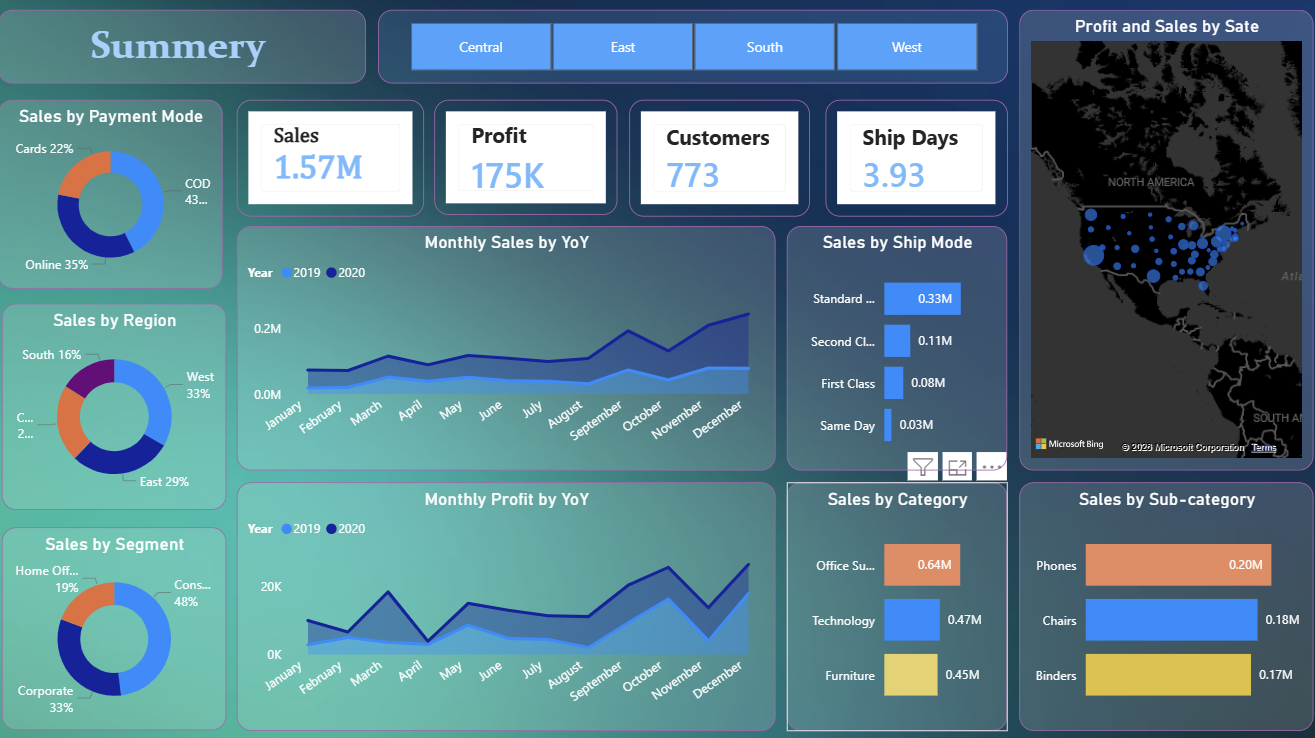

This screenshot's page, from the dashboard's own definition file:
{"tool":"powerbi","page":{"name":"Dashboard","canvas":[1280,720],"ordinal":0},"visuals":[{"type":"barChart","title":"Sales by Category","fields":{"Category":["SuperStore_Sales_Dataset.Category"],"Y":["Sum(SuperStore_Sales_Dataset.Sales)"]},"box":[761.6,469.3,212.7,240.1],"z":0},{"type":"barChart","title":"Sales by Sub-category","fields":{"Y":["Sum(SuperStore_Sales_Dataset.Sales)"],"Category":["SuperStore_Sales_Dataset.Sub-Category"]},"box":[985.3,469.3,284,240.1],"z":1000},{"type":"barChart","title":"Sales by Ship Mode","fields":{"Y":["Sum(SuperStore_Sales_Dataset.Sales)"],"Category":["SuperStore_Sales_Dataset.Ship Mode"]},"box":[761.6,222.3,212.7,236],"z":2000},{"type":"stackedAreaChart","title":"Monthly Sales by YoY","fields":{"Category":["SuperStore_Sales_Dataset.Order Date.Variation.Date Hierarchy.Month","SuperStore_Sales_Dataset.Order Date.Variation.Date Hierarchy.Day"],"Y":["Sum(SuperStore_Sales_Dataset.Sales)"],"Series":["SuperStore_Sales_Dataset.Order Date.Variation.Date Hierarchy.Year"]},"box":[230.5,222.3,520.1,236],"z":3000},{"type":"stackedAreaChart","title":"Monthly Profit by YoY","fields":{"Category":["SuperStore_Sales_Dataset.Order Date.Variation.Date Hierarchy.Month","SuperStore_Sales_Dataset.Order Date.Variation.Date Hierarchy.Day"],"Series":["SuperStore_Sales_Dataset.Order Date.Variation.Date Hierarchy.Year"],"Y":["Sum(SuperStore_Sales_Dataset.Profit)"]},"box":[230.5,469.3,520.1,240.1],"z":4000},{"type":"map","title":"Profit and Sales by Sate","fields":{"Category":["SuperStore_Sales_Dataset.State"],"Size":["Sum(SuperStore_Sales_Dataset.Sales)"]},"box":[985.3,13.7,284,444.6],"z":5000},{"type":"donutChart","title":"Sales by Region","fields":{"Category":["SuperStore_Sales_Dataset.Region"],"Y":["Sum(SuperStore_Sales_Dataset.Sales)"]},"box":[4.1,296.4,216.8,199],"z":6000},{"type":"donutChart","title":"Sales by Payment Mode","fields":{"Y":["Sum(SuperStore_Sales_Dataset.Sales)"],"Category":["SuperStore_Sales_Dataset.Payment Mode"]},"box":[0,100.2,216.8,182.5],"z":7000},{"type":"slicer","fields":{"Values":["SuperStore_Sales_Dataset.Region"]},"box":[366.4,13.7,607.9,71.4],"z":8000},{"type":"actionButton","box":[0,0,100,40],"z":9000},{"type":"textbox","box":[0,13.7,355.4,71.4],"z":10000},{"type":"donutChart","title":"Sales by Segment","fields":{"Category":["SuperStore_Sales_Dataset.Segment"],"Y":["Sum(SuperStore_Sales_Dataset.Sales)"]},"box":[4.1,513.2,216.8,196.2],"z":11000},{"type":"cardVisual","fields":{"Data":["Sum(SuperStore_Sales_Dataset.Sales)"]},"box":[230.5,100.2,181.1,112.5],"z":12000},{"type":"cardVisual","fields":{"Data":["Avg(SuperStore_Sales_Dataset.AvgDelivery)"]},"box":[798.6,100.2,175.6,112.5],"z":13000},{"type":"cardVisual","fields":{"Data":["Count(SuperStore_Sales_Dataset.Customer ID)"]},"box":[609.3,100.2,174.3,112.5],"z":14000},{"type":"cardVisual","fields":{"Data":["Sum(SuperStore_Sales_Dataset.Profit)"]},"box":[421.3,100.2,177,111.1],"z":15000}]}

Visuals, with their boxes in screenshot pixels (x1, y1, x2, y2), scaled from the page's 1280x720 canvas onto the 1315x738 screenshot:
"Sales by Category" barChart: 782:481:1001:727
"Sales by Sub-category" barChart: 1012:481:1304:727
"Sales by Ship Mode" barChart: 782:228:1001:470
"Monthly Sales by YoY" stackedAreaChart: 237:228:771:470
"Monthly Profit by YoY" stackedAreaChart: 237:481:771:727
"Profit and Sales by Sate" map: 1012:14:1304:470
"Sales by Region" donutChart: 4:304:227:508
"Sales by Payment Mode" donutChart: 0:103:223:290
slicer - SuperStore_Sales_Dataset.Region: 376:14:1001:87
actionButton: 0:0:103:41
textbox: 0:14:365:87
"Sales by Segment" donutChart: 4:526:227:727
cardVisual - Sum(SuperStore_Sales_Dataset.Sales): 237:103:423:218
cardVisual - Avg(SuperStore_Sales_Dataset.AvgDelivery): 820:103:1001:218
cardVisual - Count(SuperStore_Sales_Dataset.Customer ID): 626:103:805:218
cardVisual - Sum(SuperStore_Sales_Dataset.Profit): 433:103:615:217
